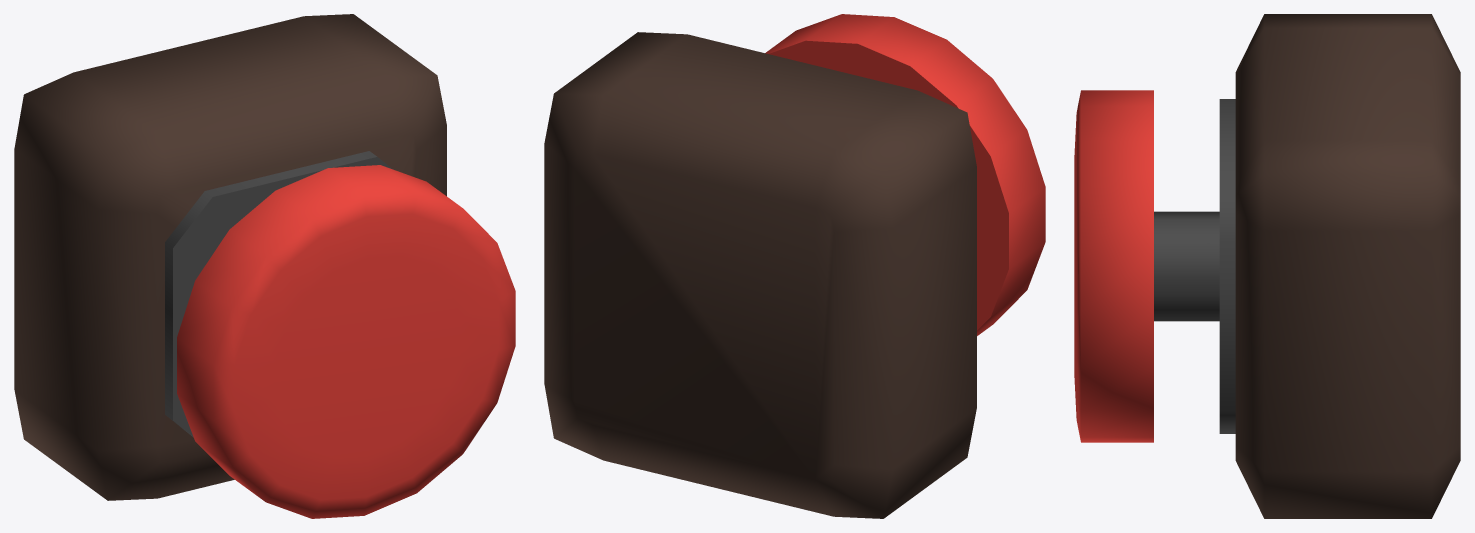
The model's file is PushbackBlock.fbx.
The picture shows the model from 3 angles, left to right: view 1: azimuth 30°, elevation 25°; view 2: azimuth 150°, elevation 25°; view 3: azimuth 270°, elevation 25°; orthographic projection.
Parts seen in each view (by area): view 1: Cube.002; view 2: Cube.002; view 3: Cube.002.
Part boxes in pixels (left/top/right/bottom): Cube.002: left=14, top=14, right=515, bottom=518; Cube.002: left=544, top=14, right=1045, bottom=518; Cube.002: left=1074, top=14, right=1460, bottom=518.
Size of the model in its own units: 200 by 200 by 192.
